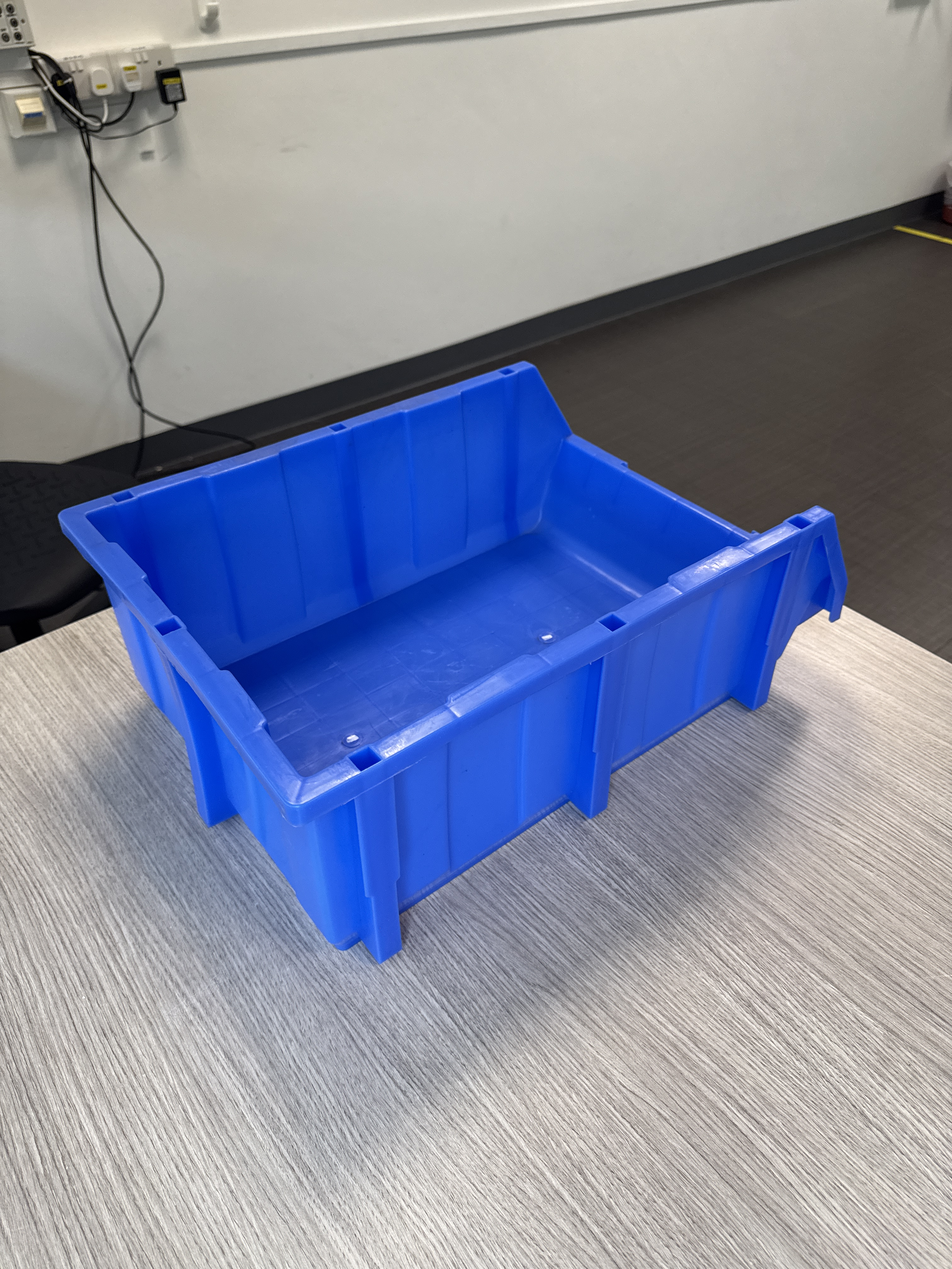Bin Boundary: (91, 323, 787, 819)
